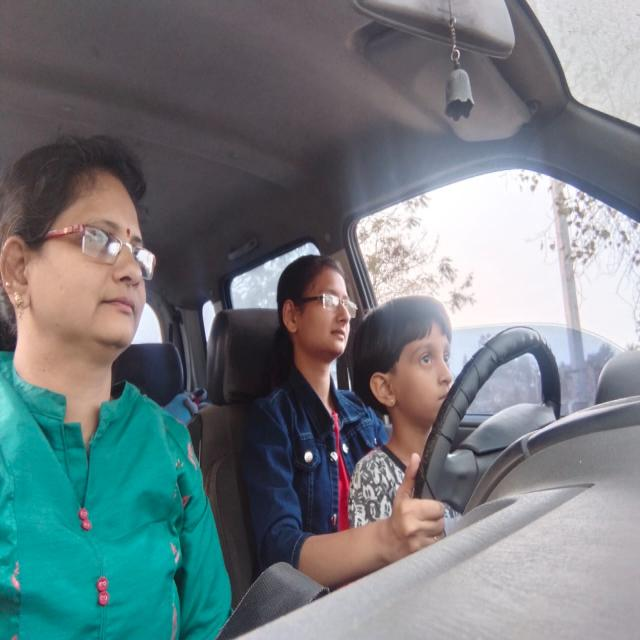child: (372, 298, 468, 437)
person: (3, 116, 160, 398), (266, 243, 362, 377)
